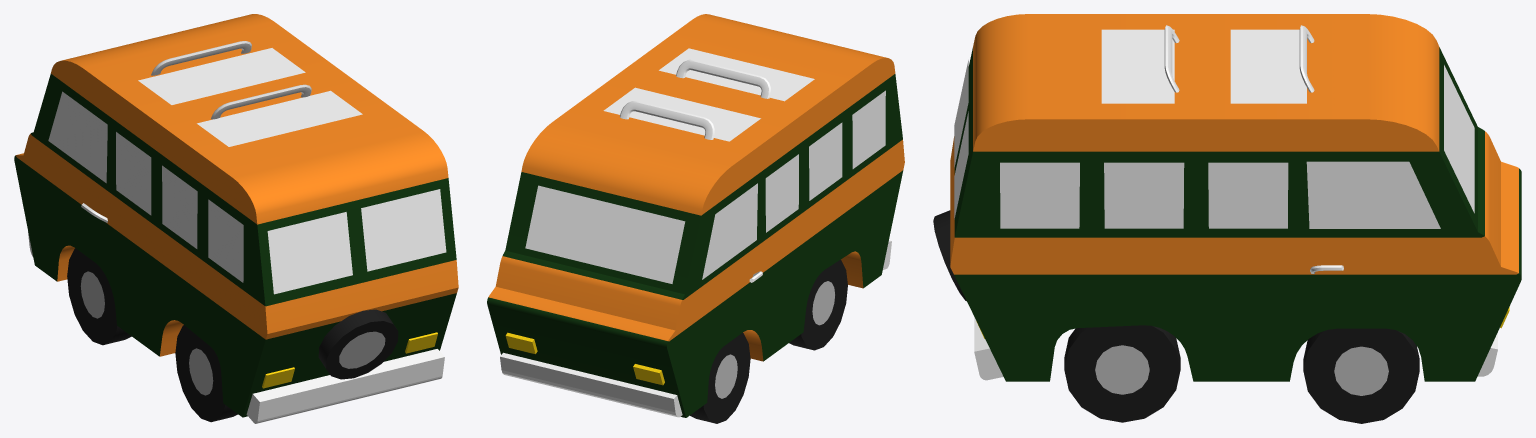
File: индия_дляигры.fbx
The picture shows the model from 3 angles, left to right: view 1: azimuth 30°, elevation 25°; view 2: azimuth 150°, elevation 25°; view 3: azimuth 270°, elevation 25°; orthographic projection. The views are drawn at different scales.
Visible parts, largest first — view 1: Cube, Plane.007, Cube.002, Plane.004, Plane.003, Plane, Plane.001, Cylinder.006, Cylinder.001, Cylinder, Plane.002, Cylinder.005 (+3 smaller); view 2: Cube, Plane.005, Plane.007, Cube.001, Plane, Cylinder.001, Cylinder, Plane.001, Plane.002, Cylinder.004, Cylinder.005, Cube.003 (+1 smaller); view 3: Cube, Plane.007, Cylinder, Cylinder.001, Plane.002, Plane, Plane.001, Plane.005, Cube.002, Cylinder.006, Plane.004, Plane.003 (+2 smaller).
Boxes of the visible parts, x1,y1,x2,y2 form: Cube: (14,14,458,417); Plane.007: (116,132,243,282); Cube.002: (246,349,444,423); Plane.004: (361,189,446,271); Plane.003: (267,212,352,294); Plane: (138,48,305,104); Plane.001: (197,90,362,146); Cylinder.006: (318,309,398,379); Cylinder.001: (67,248,131,345); Cylinder: (175,325,237,422); Plane.002: (48,91,107,183); Cylinder.005: (211,84,311,119); Cube: (487,14,904,417); Plane.005: (525,185,685,283); Plane.007: (765,90,885,232); Cube.001: (500,352,682,417); Plane: (603,87,760,141); Cylinder.001: (690,332,750,423); Cylinder: (789,259,847,350); Plane.001: (659,48,814,101); Plane.002: (702,183,757,279); Cylinder.004: (620,101,714,139); Cylinder.005: (676,59,770,98); Cube.003: (505,332,537,354); Cube: (950,14,1521,381); Plane.007: (1000,162,1288,228); Cylinder: (1064,325,1180,422); Cylinder.001: (1303,328,1419,423); Plane.002: (1306,161,1440,228); Plane: (1230,29,1306,103); Plane.001: (1101,29,1174,103); Plane.005: (1444,65,1474,213); Cube.002: (974,317,1003,380); Cylinder.006: (933,210,966,300); Plane.004: (954,111,968,219); Plane.003: (954,60,968,167).
Size of the model in its own units: 134 by 172 by 279.
